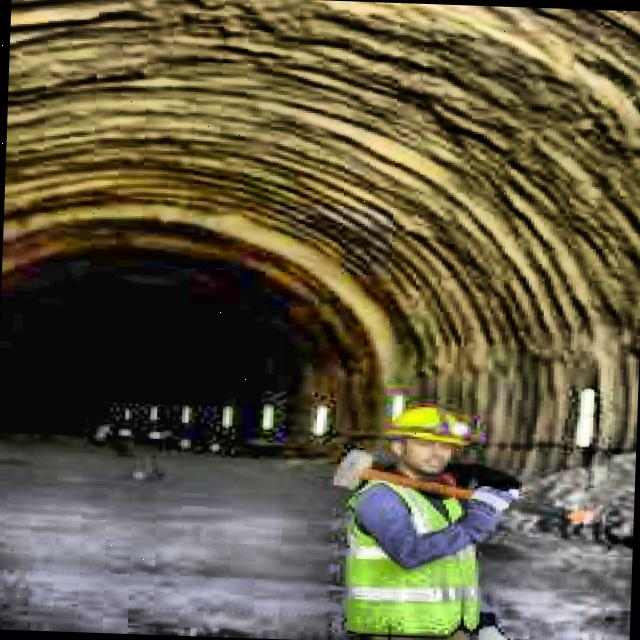helmet: (380, 401, 468, 474)
